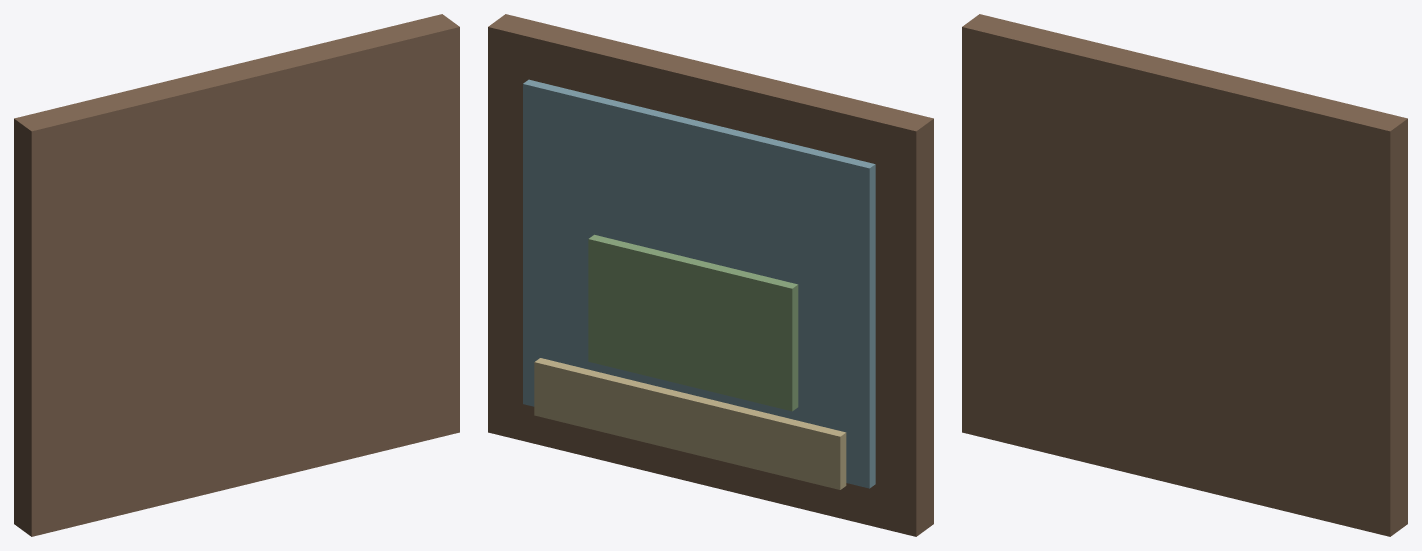
File: wall_art.gltf
3 renders of one model, left to right at view 1: azimuth 30°, elevation 25°; view 2: azimuth 150°, elevation 25°; view 3: azimuth 330°, elevation 25°, orthographic.
Visible parts, largest first — view 1: wall_art; view 2: wall_art; view 3: wall_art.
Part boxes in pixels (x1=…): wall_art: x1=14, y1=14, x2=459, y2=536; wall_art: x1=488, y1=14, x2=933, y2=536; wall_art: x1=962, y1=14, x2=1407, y2=536.
Size of the model in its own units: 0.84 by 0.76 by 0.11.
